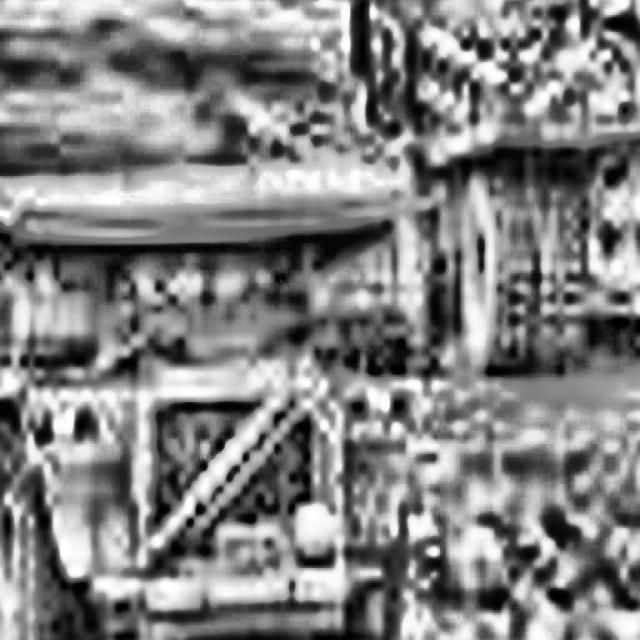dump_truck: (0, 0, 429, 640), (382, 0, 640, 389)
